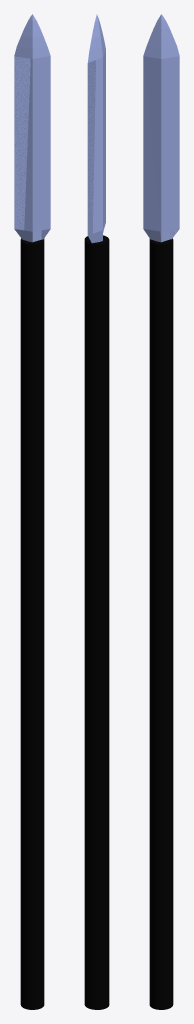
File: yari.fbx
The picture shows the model from 3 angles, left to right: view 1: azimuth 90°, elevation 25°; view 2: azimuth 150°, elevation 25°; view 3: azimuth 270°, elevation 25°; orthographic projection.
Visible parts, largest first — view 1: 円柱; view 2: 円柱; view 3: 円柱.
Part boxes in pixels (x1=…): 円柱: x1=14, y1=14, x2=50, y2=1009; 円柱: x1=84, y1=14, x2=109, y2=1009; 円柱: x1=143, y1=14, x2=179, y2=1009.
Size of the model in its own units: 45.85 by 2024 by 67.9.
